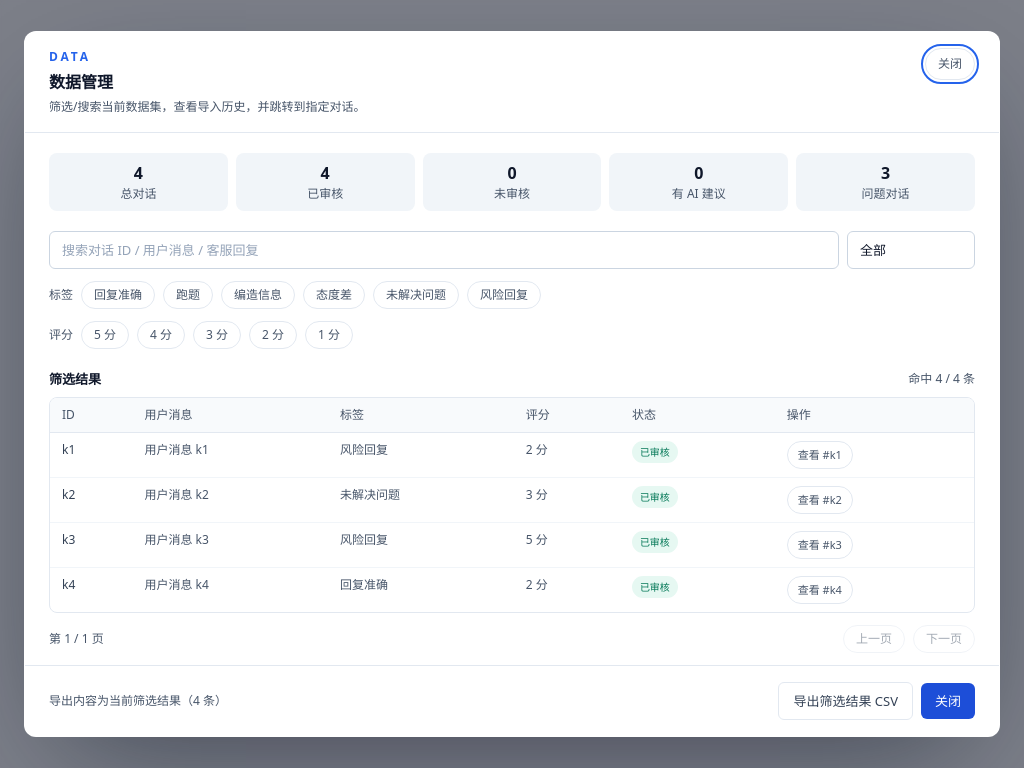
Scenario: DataManagerPanel 补充 · 标签与评分多选组合 › 标签多选（风险回复 + 未解决问题，OR）与评分多选（2 分 + 3 分）组合 → 命中数正确且 aria-pressed
Click the button "风险回复" at x=504, y=295, box [467, 281, 541, 309]
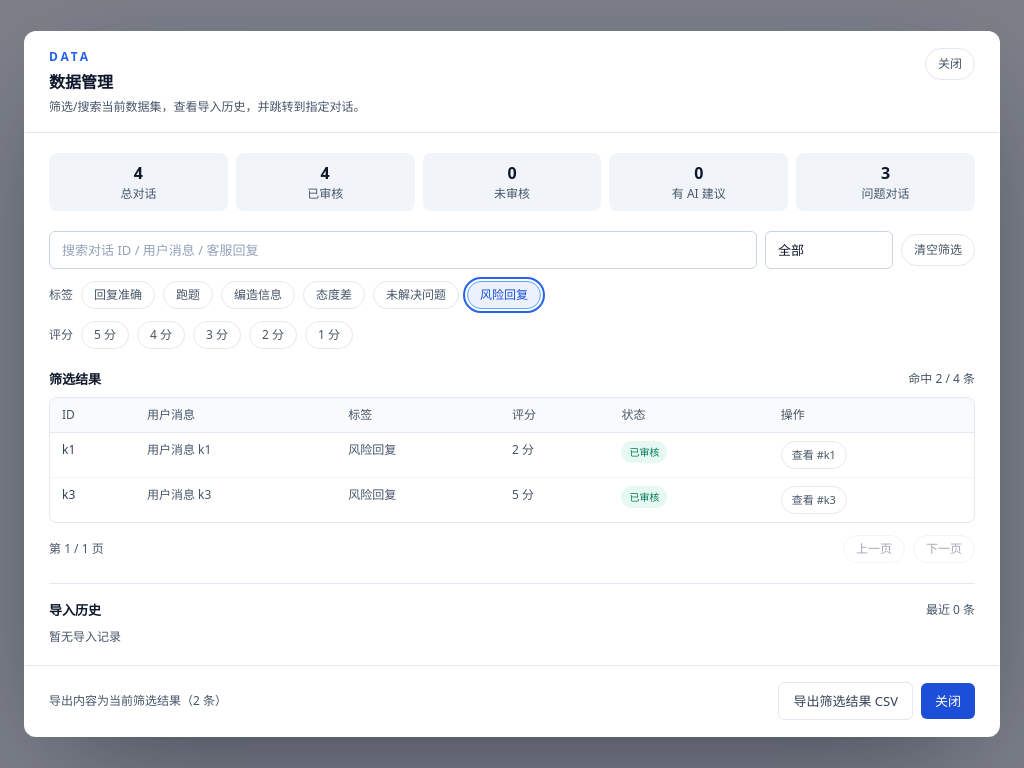
Click the button "未解决问题" at x=416, y=295, box [373, 281, 459, 309]
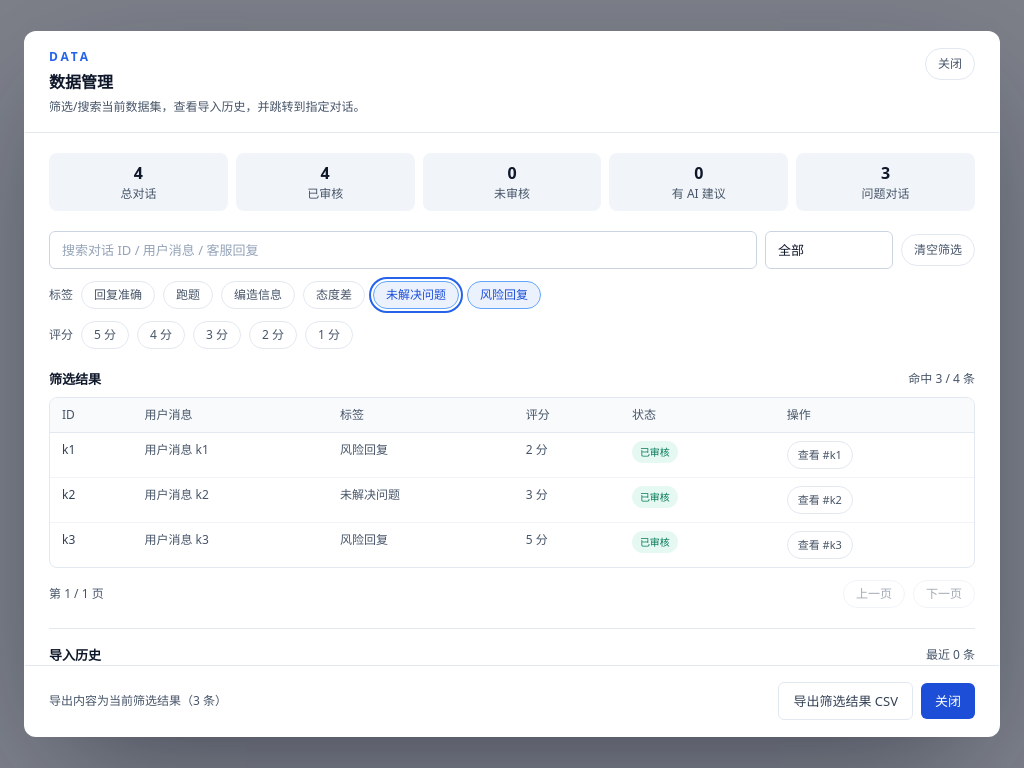
Check: the text "命中 3 / 4 条" is shown, box [908, 370, 975, 388]
Click the button "2 分" at x=273, y=335, box [249, 321, 297, 349]
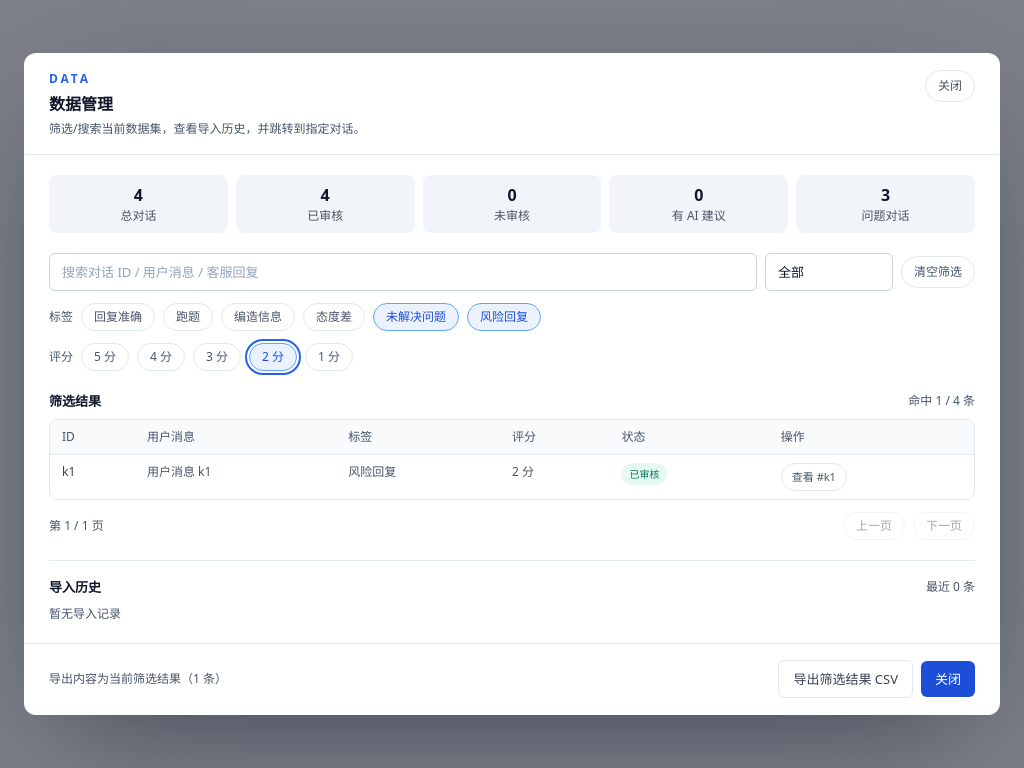
Click the button "3 分" at x=217, y=357, box [193, 343, 241, 371]
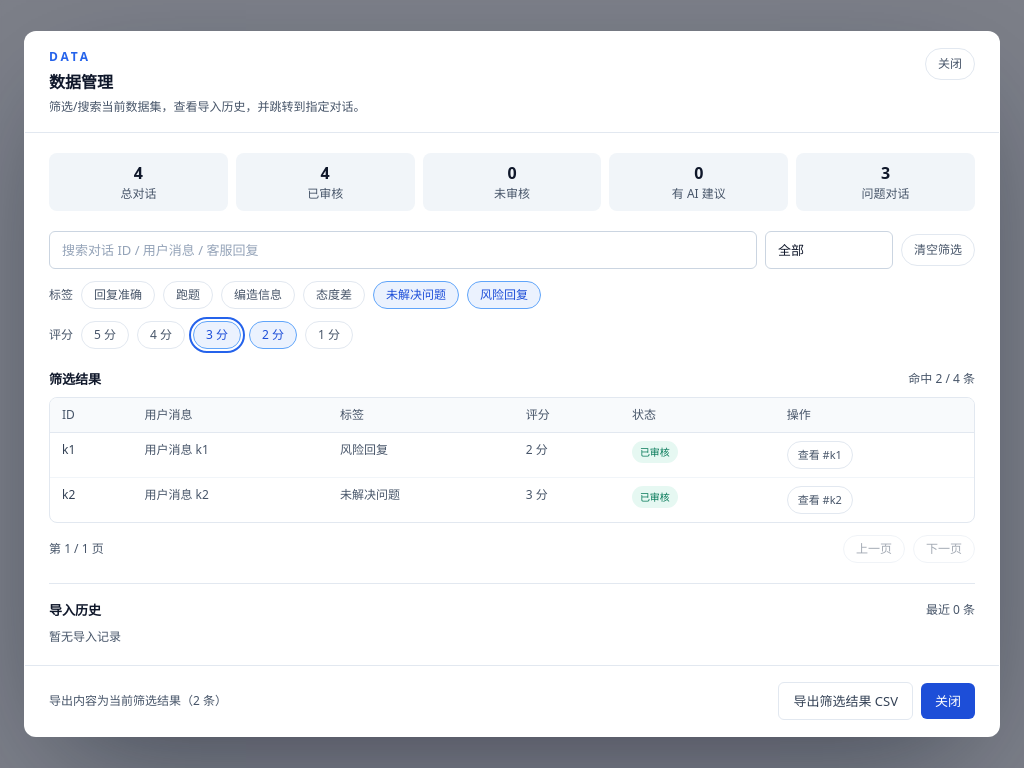
Check: the text "命中 2 / 4 条" is shown, box [908, 370, 975, 388]
